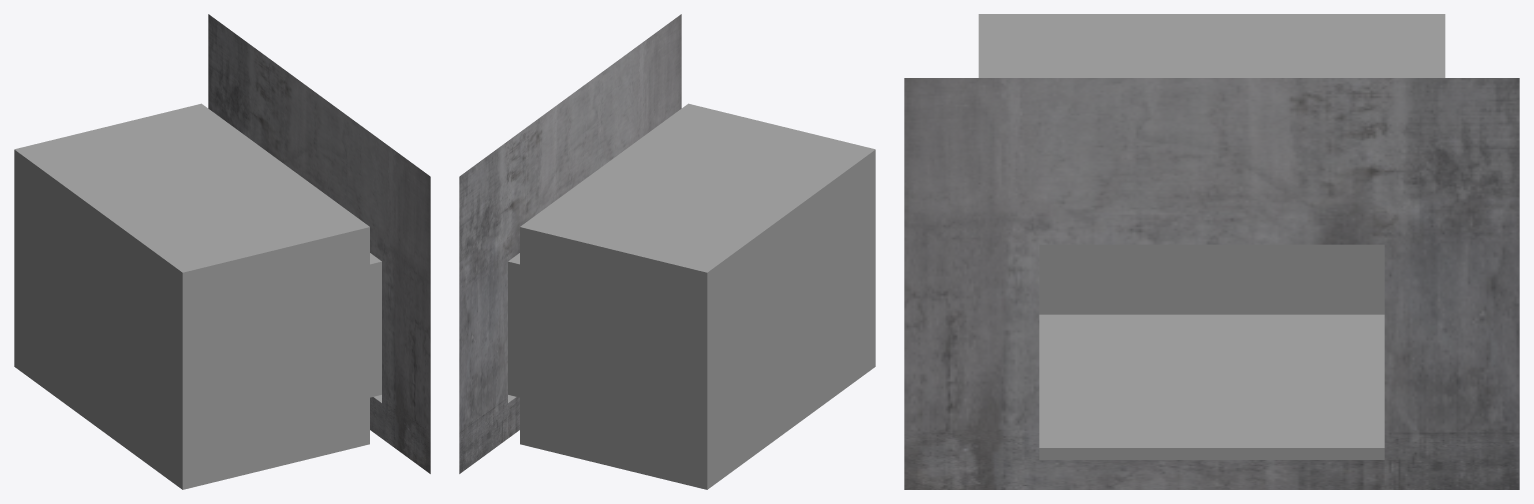
Rendered from fbx_wall_s1_market1.fbx.
3 renders of one model, left to right at view 1: azimuth 30°, elevation 25°; view 2: azimuth 150°, elevation 25°; view 3: azimuth 270°, elevation 25°, orthographic. The views are drawn at different scales.
Parts seen in each view (by area): view 1: fbx_wall_s1_market1; view 2: fbx_wall_s1_market1; view 3: fbx_wall_s1_market1.
Part boxes in pixels (box(x1,y1,x2,y2)): fbx_wall_s1_market1: box(14, 14, 430, 489); fbx_wall_s1_market1: box(459, 14, 875, 489); fbx_wall_s1_market1: box(904, 14, 1519, 489).
Size of the model in its own units: 3.05 by 3.48 by 4.71.
2 materials, 1 textured.
